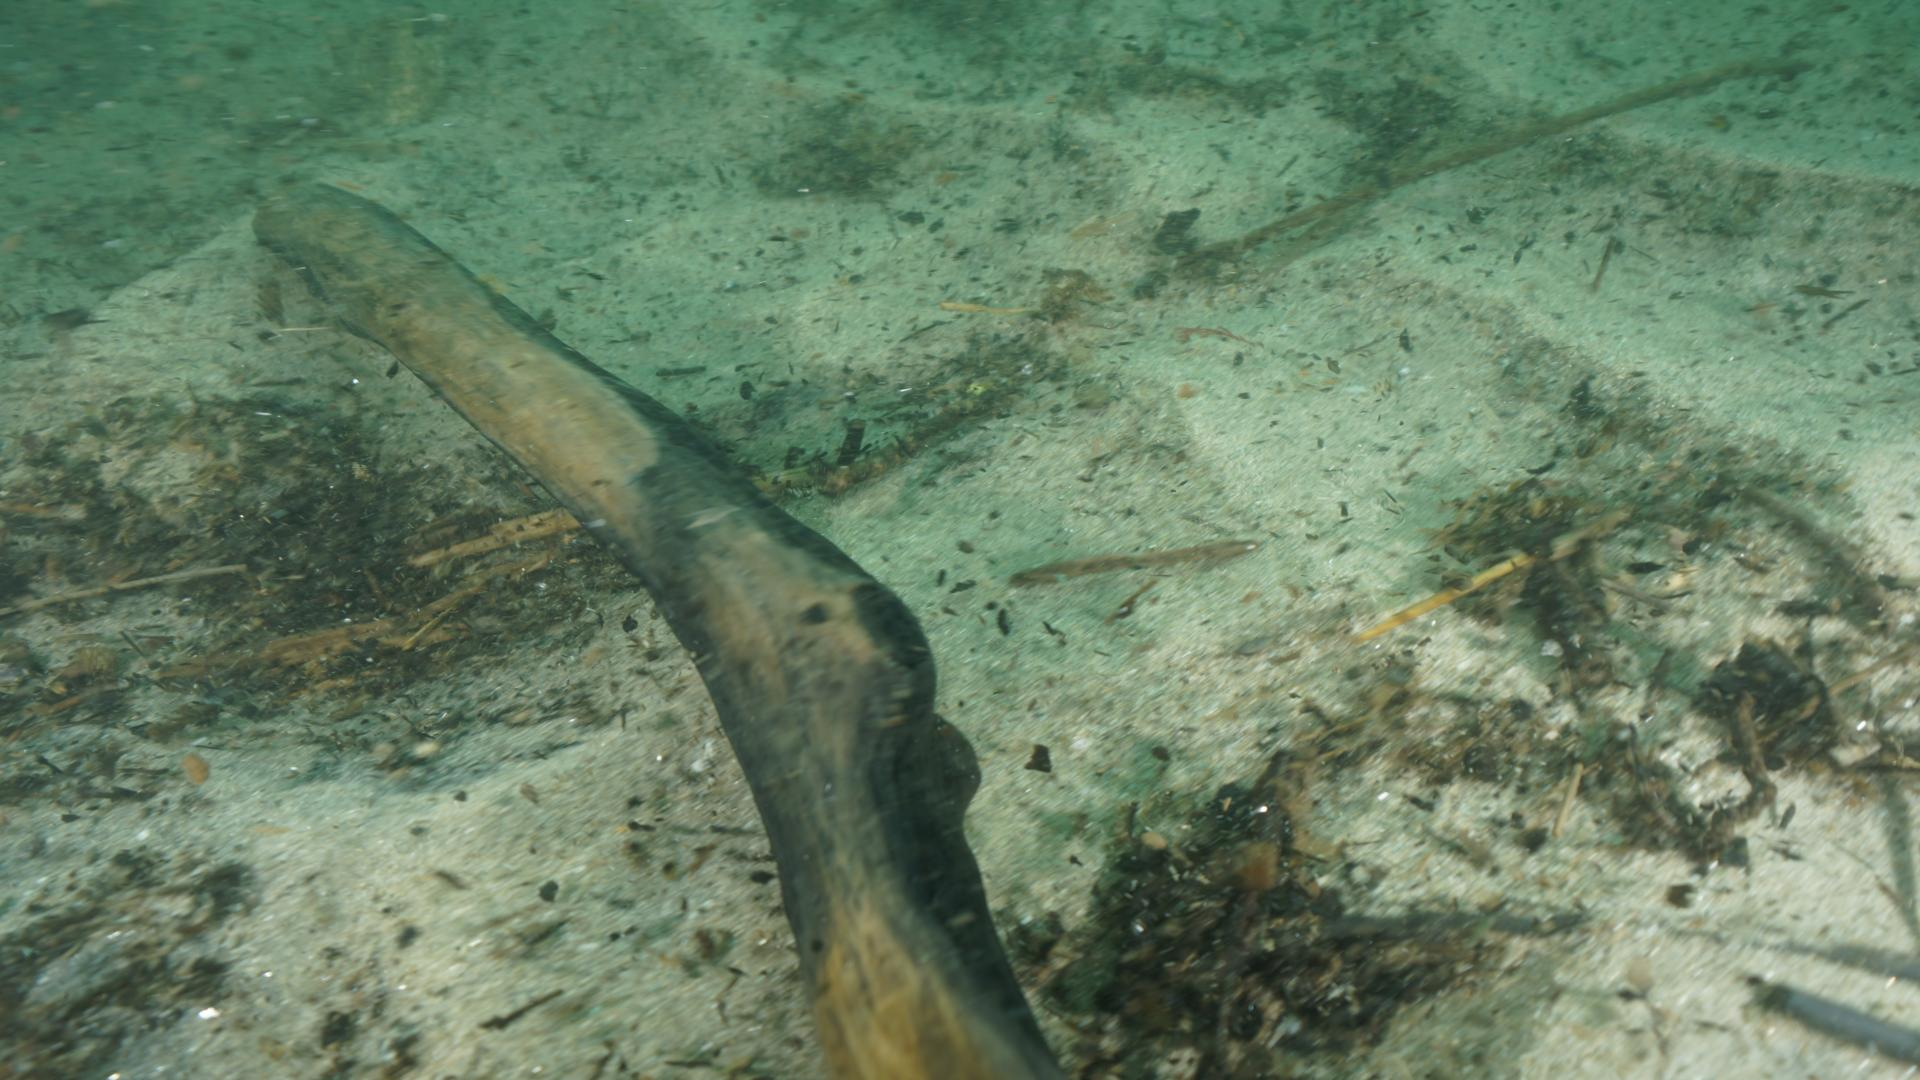wood: (249, 177, 1055, 1080)
